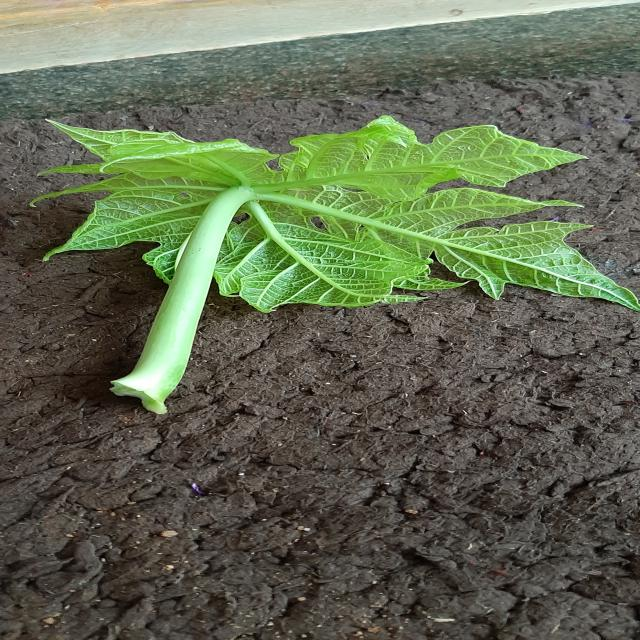papaya: (43, 116, 637, 311)
